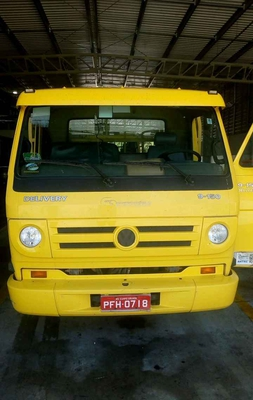Frontal Caminhao: (3, 84, 244, 318)
